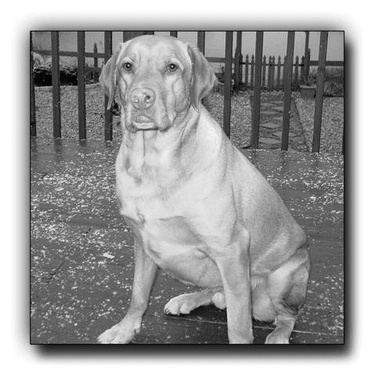dog: (70, 35, 313, 350)
